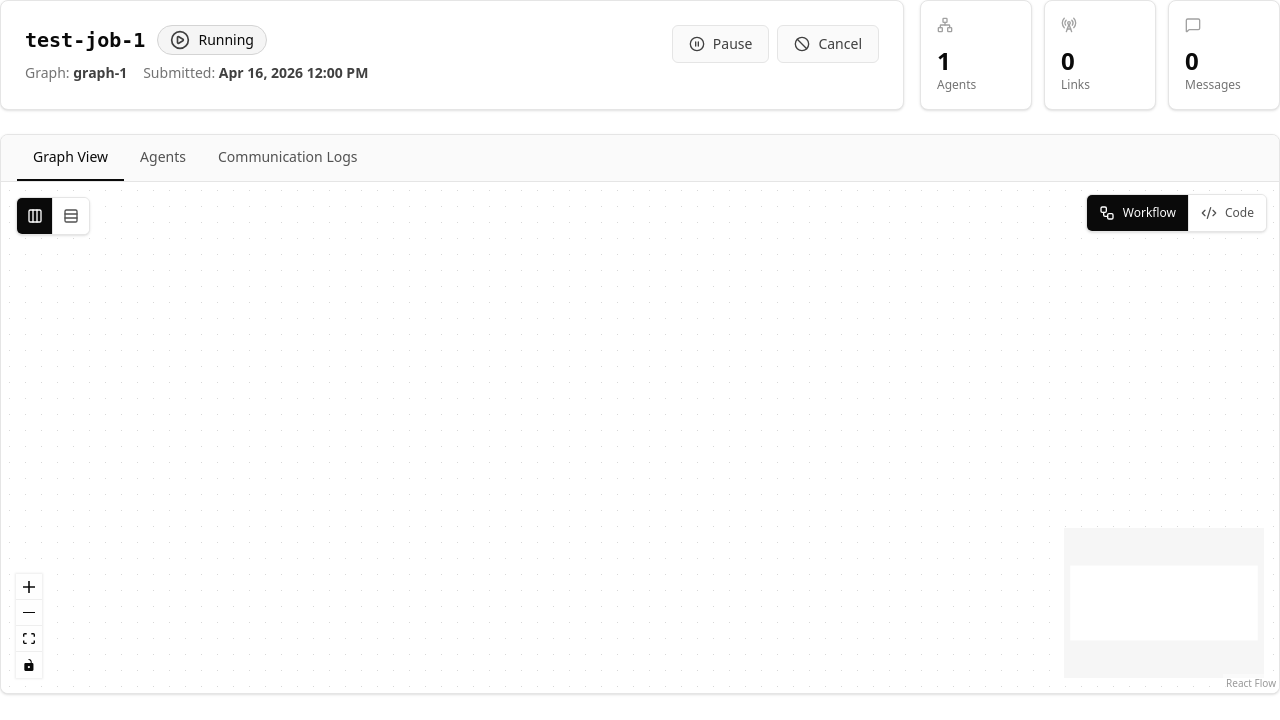
Scenario: JobDetails Component › renders job details when agent graph is unavailable
Expected: the heading "test-job-1" is shown, [25,26,145,54]
Click the button "Agents". click: (163, 158)
box: [124,135,202,181]
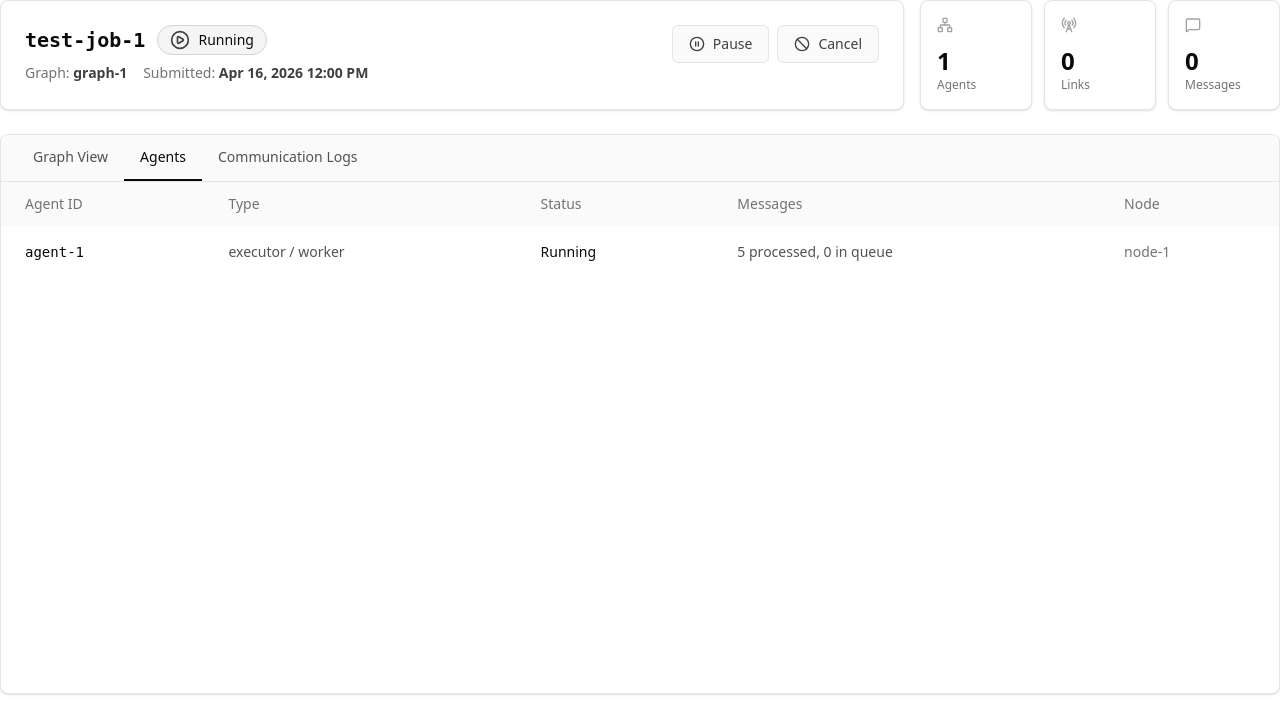
Expected: the text "agent-1" is shown, [1,226,204,278]
